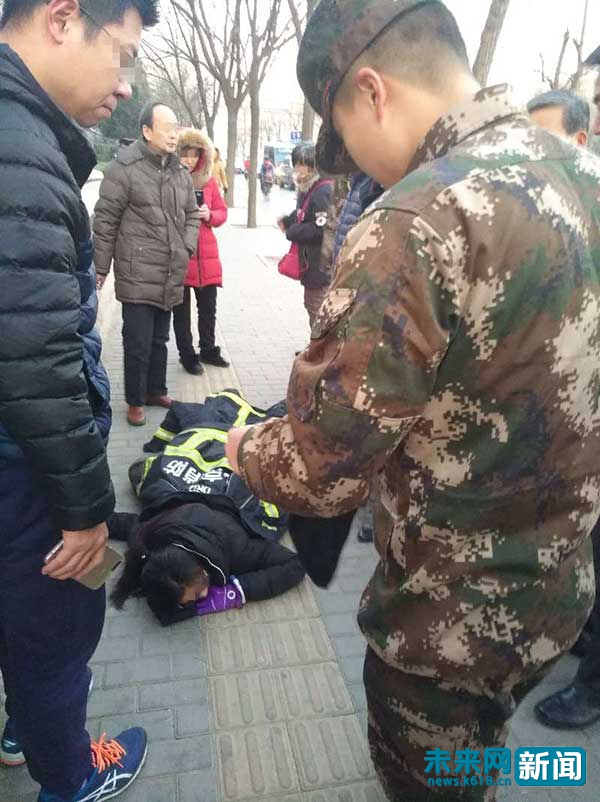fall: (104, 371, 316, 656)
